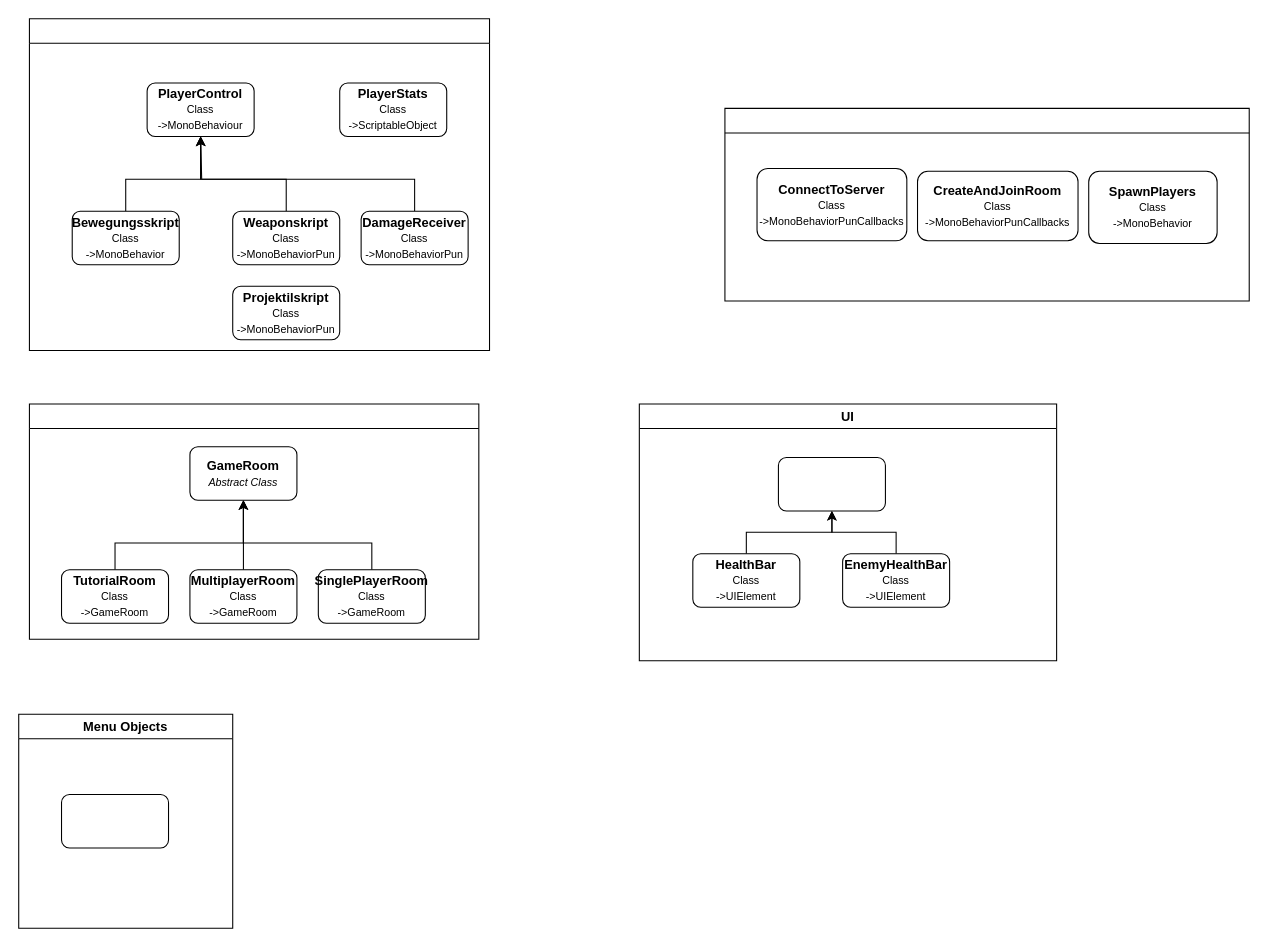
The diagram is 1268 pixels wide and 947 high, and some of its shapes have lost their labels. Here are the shapes that lost their labels. From the top down, the centre of each, then its label:
At point (259, 184): "Player".
At point (986, 204): "Multiplayer".
At point (831, 483): "UIElement Class ->MonoBehavior".
At point (253, 521): "Room Objects".
At point (114, 820): "MainMenu Class ->MonoBehavior".
